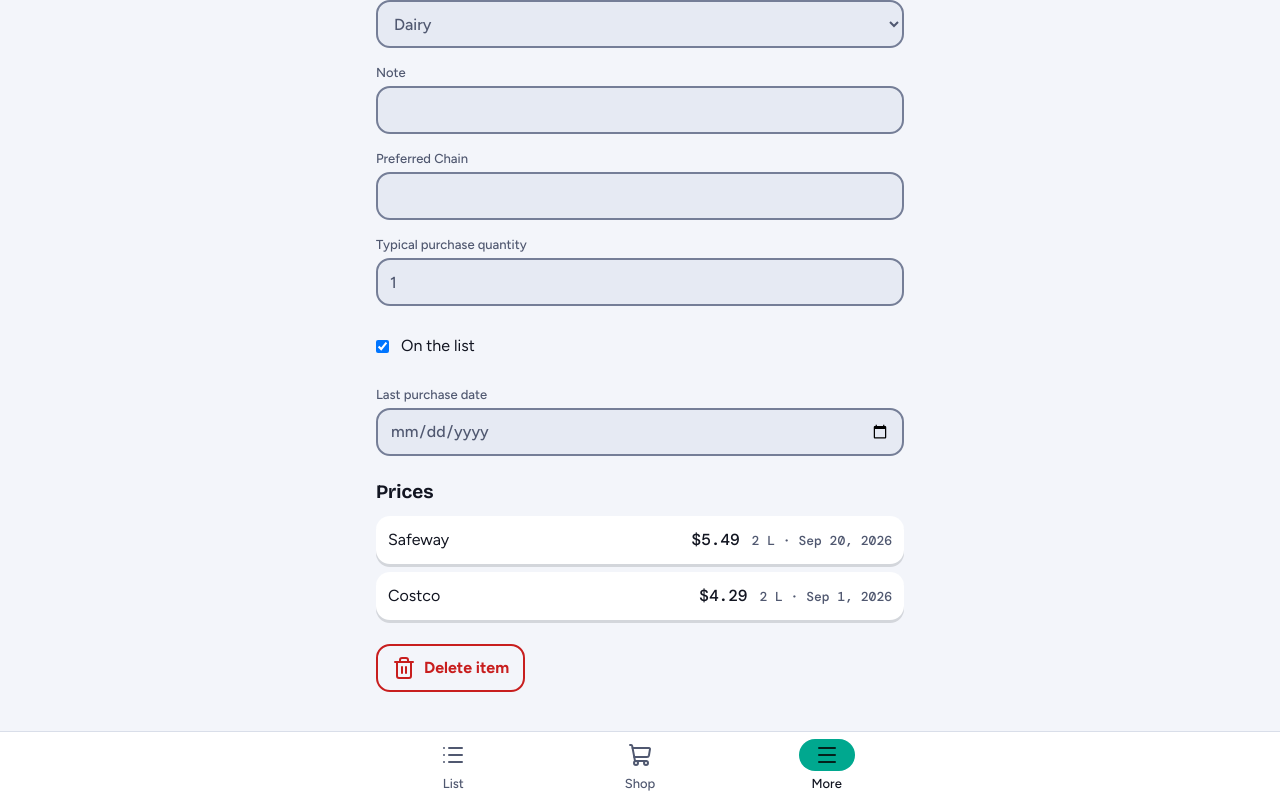
Test: refuses future dates and blank names without saving other edits
The image size is (1280, 800).
(page scrolled)
Type "2999-01-01" into the date field labelled "Last purchase date" at (640, 432), box [376,408,904,456]
(page scrolled)
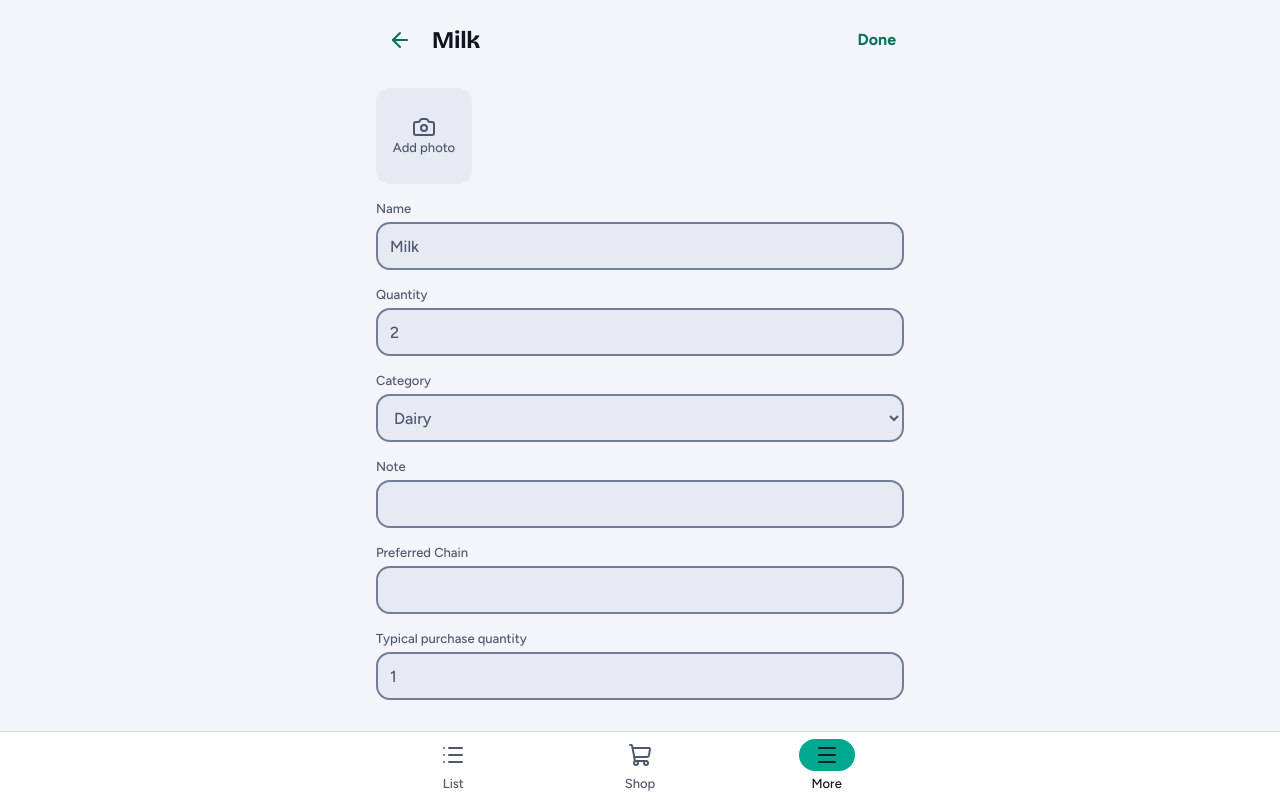
Click the button "Done" at (877, 40), box [850,16,904,64]
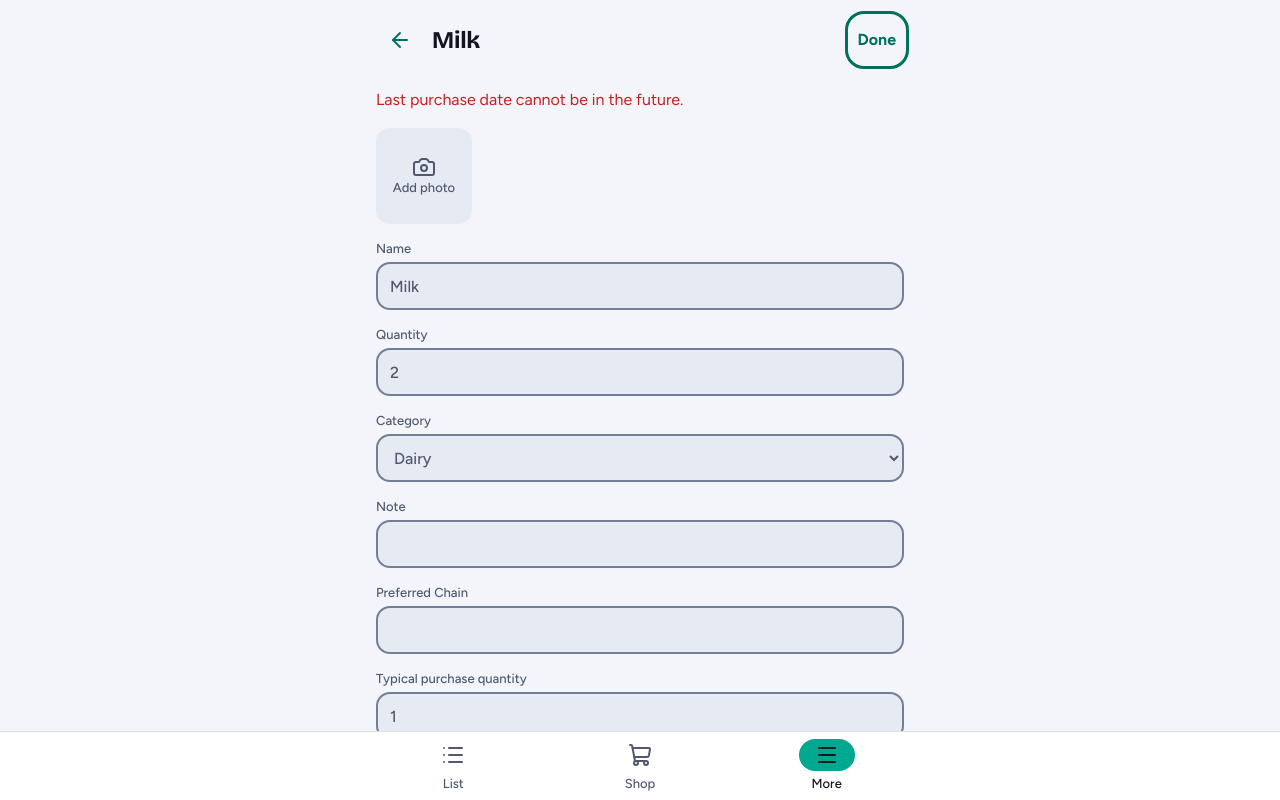
Expected: the message reads "Last purchase date cannot be in the future.", [376,90,683,109]
Clear the field labelled "Name" at (640, 286), box [376,262,904,310]
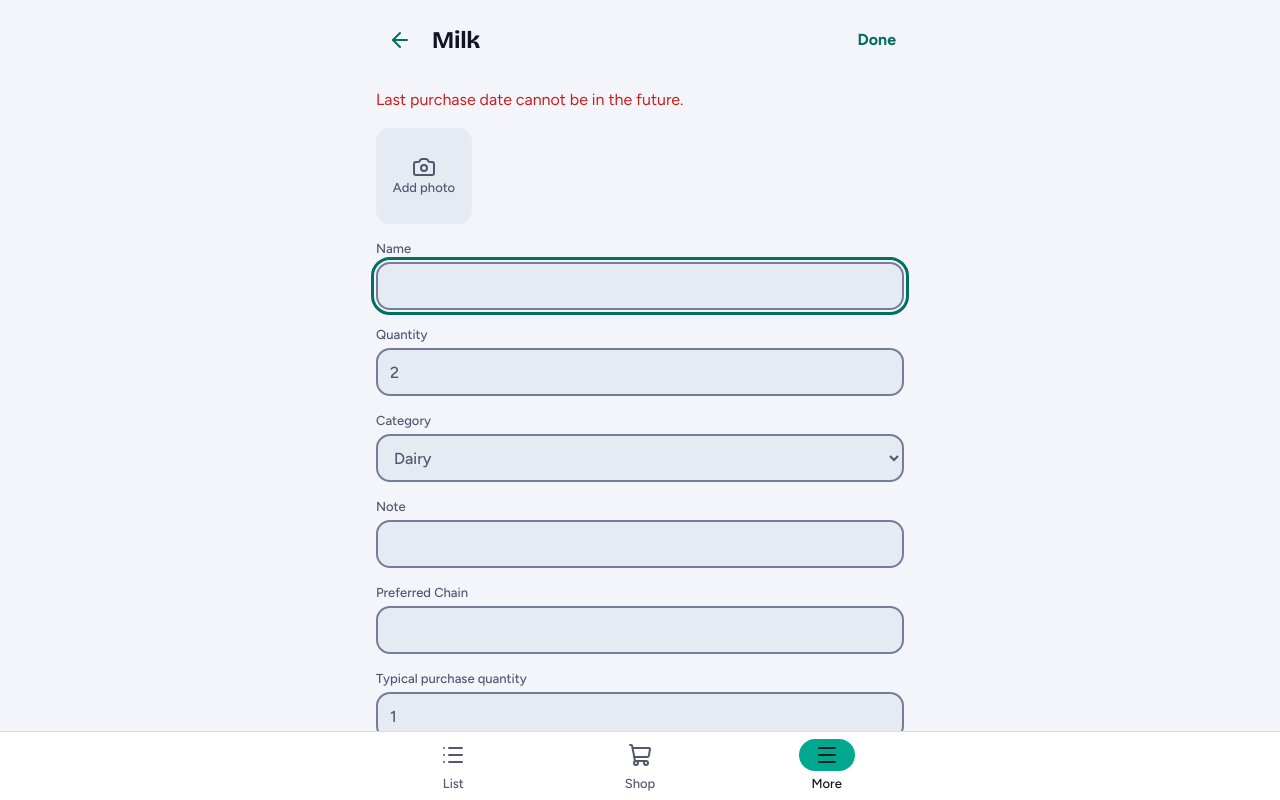
Click the button "Done" at (877, 40), box [850,16,904,64]
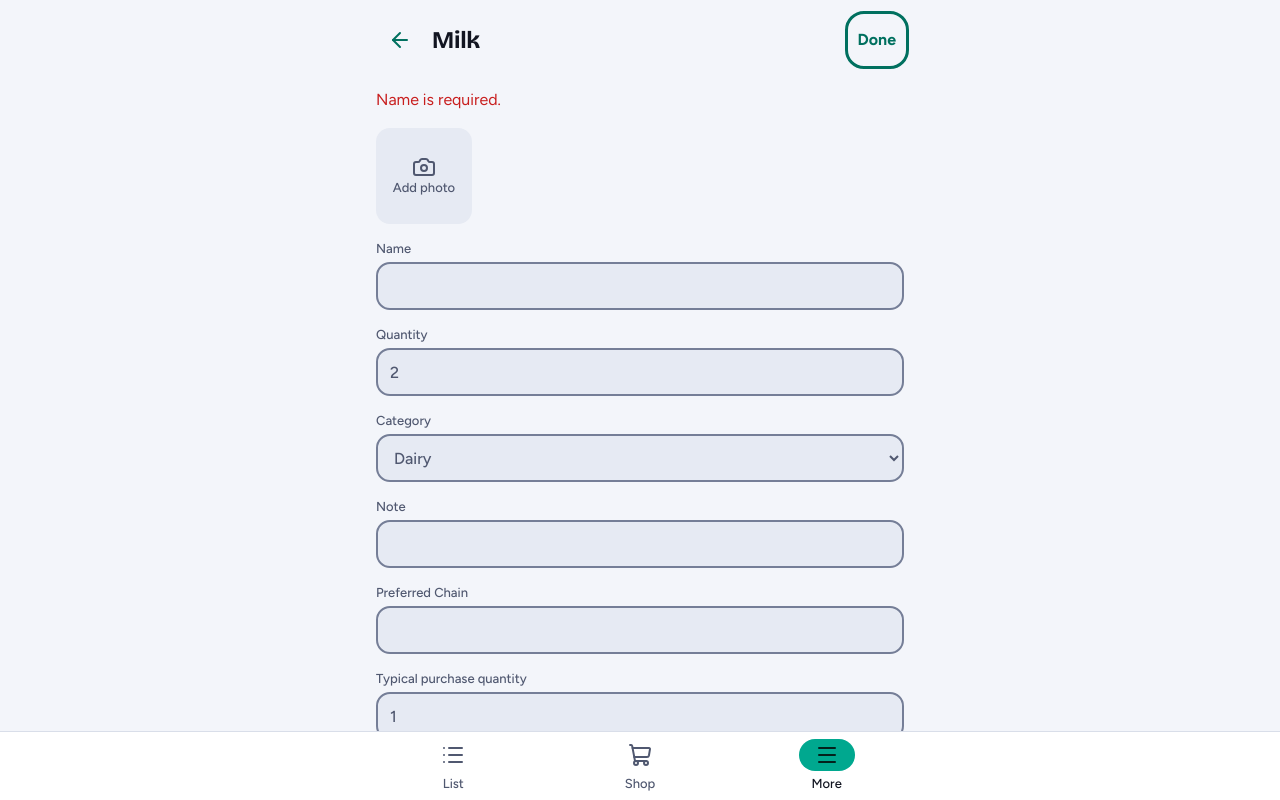
Expected: the message reads "Name is required.", [376,90,501,109]
